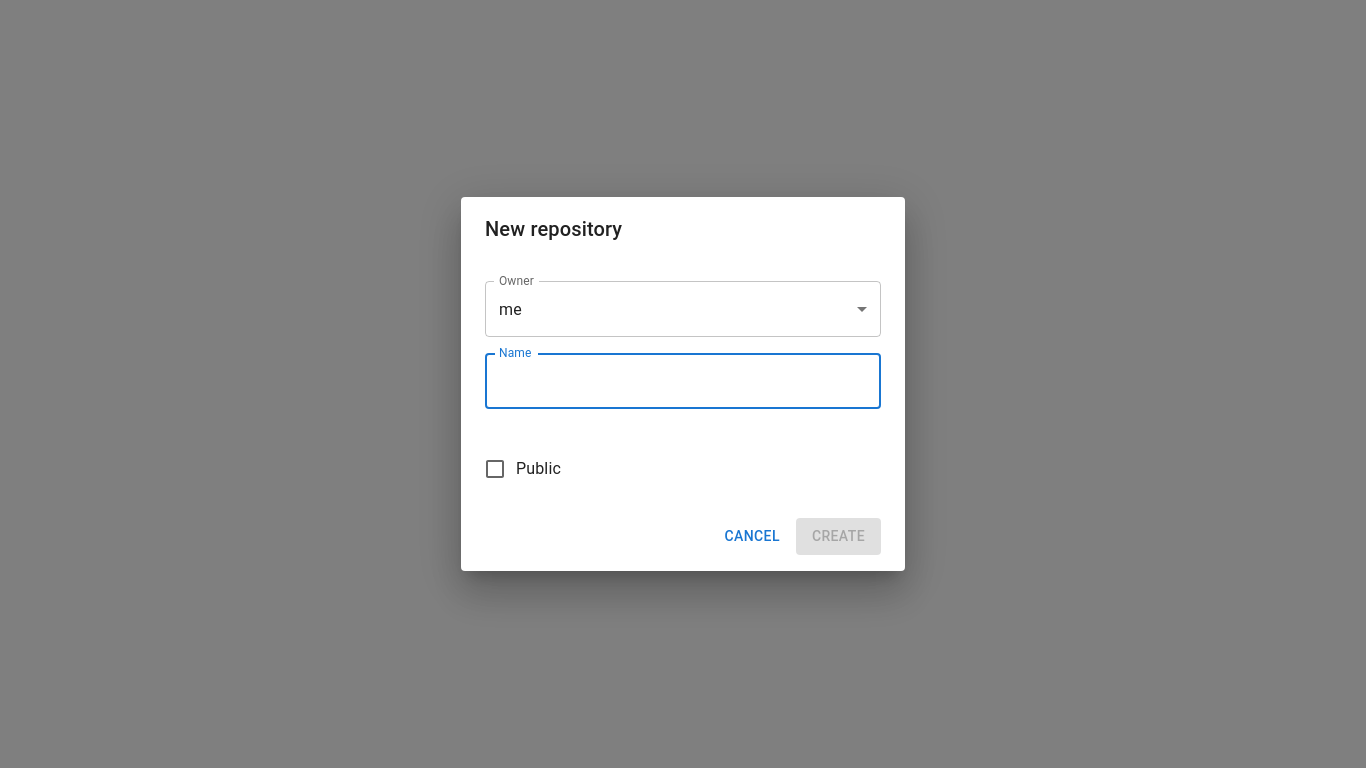
Scenario: NewRepositoryDialog › shows the message of a failed command and sends a new key on the next Create
Later steps or results of the test are not shown.
In the field labelled "Name": {"x": 683, "y": 381} left=485, top=353, right=881, bottom=409, type "demo"
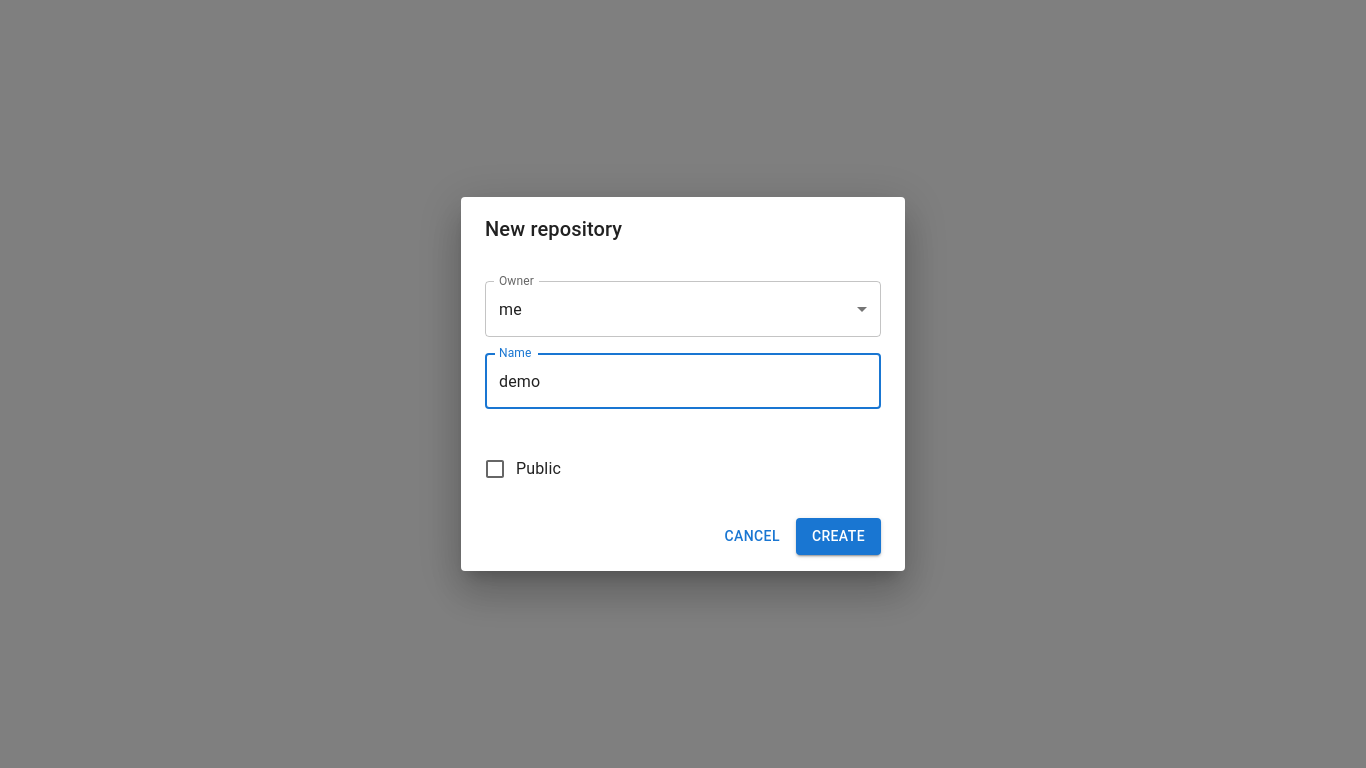
Click the button "Create": {"x": 838, "y": 536} left=796, top=518, right=881, bottom=555
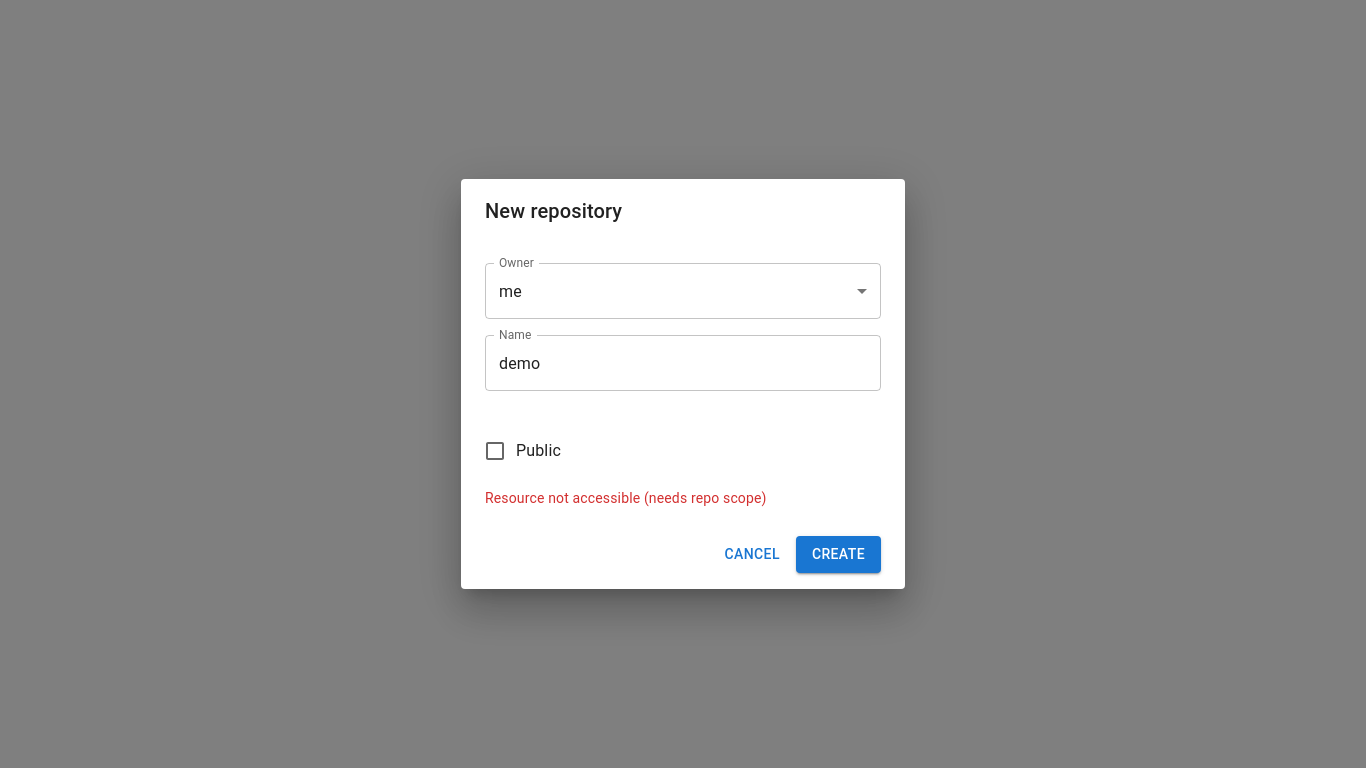
Expected: the message reads "Resource not accessible (needs repo scope)", left=485, top=490, right=767, bottom=506
